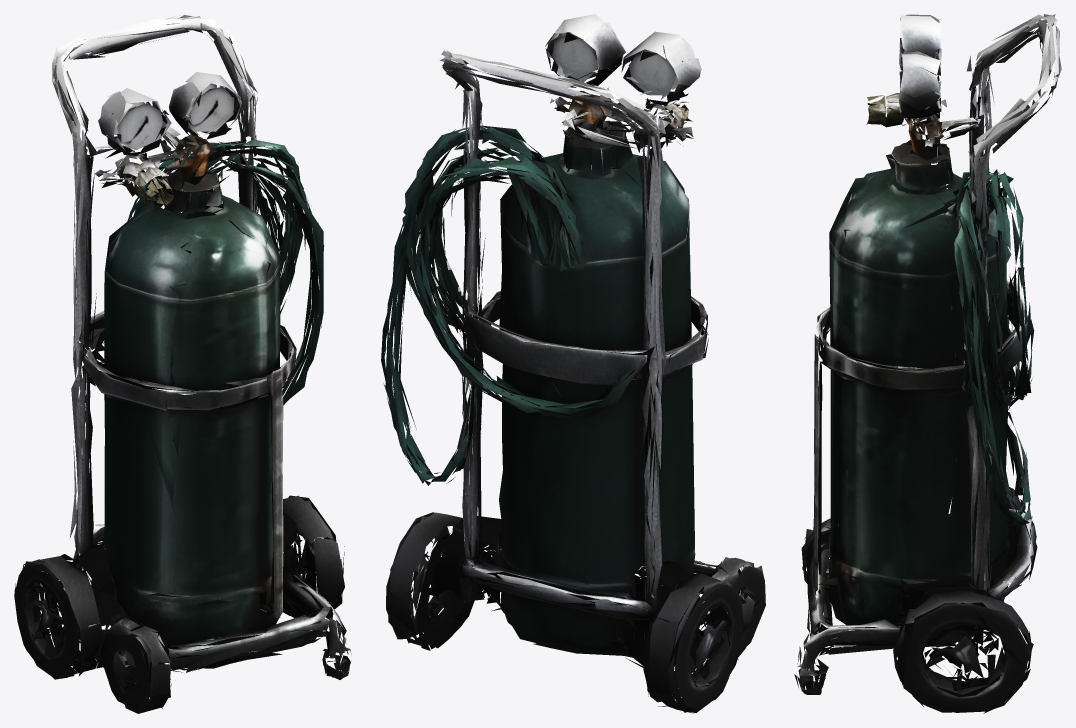
The model's file is gas_cylinder.glb.
3 renders of one model, left to right at view 1: azimuth 30°, elevation 25°; view 2: azimuth 150°, elevation 25°; view 3: azimuth 270°, elevation 25°, orthographic. The views are drawn at different scales.
Visible parts, largest first — view 1: gas_cylinder; view 2: gas_cylinder; view 3: gas_cylinder.
Boxes of the visible parts, bbox=[...] form: gas_cylinder: bbox=[14, 15, 351, 713]; gas_cylinder: bbox=[381, 14, 765, 713]; gas_cylinder: bbox=[794, 14, 1061, 713].
Size of the model in its own units: 0.7494 by 1.44 by 0.5812.
Materials: 1 (1 with a texture image).
